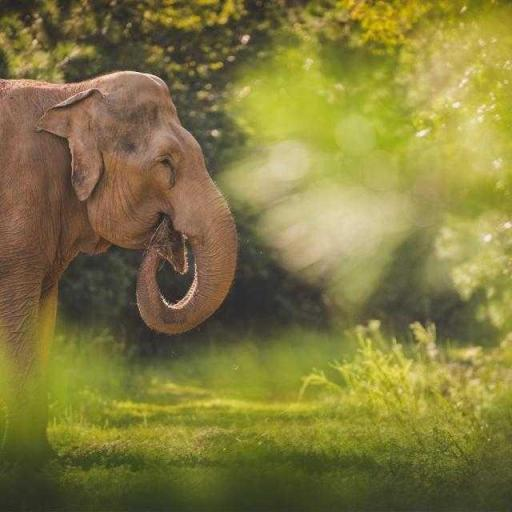Elephant: (0, 68, 238, 470)
